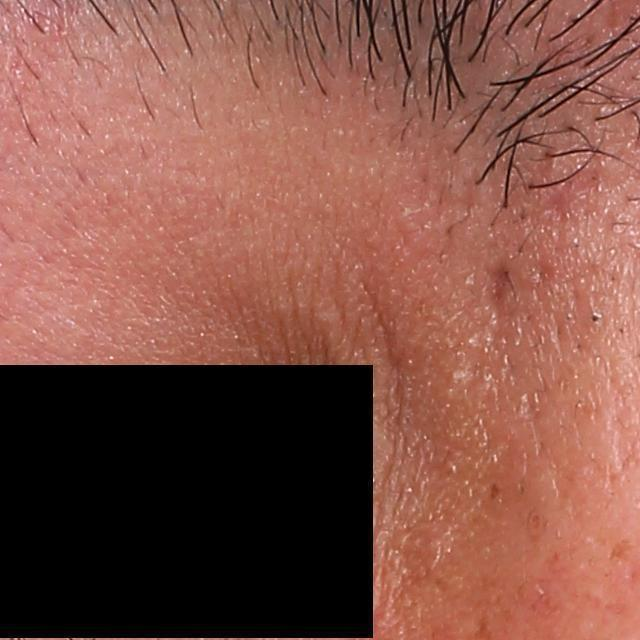atrophic_scar: (531, 162, 606, 255), (480, 259, 515, 338)
